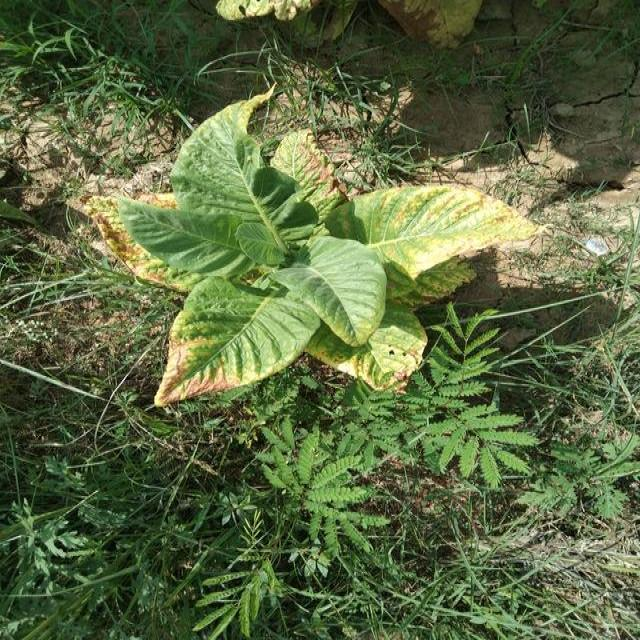crop: (86, 82, 551, 399)
